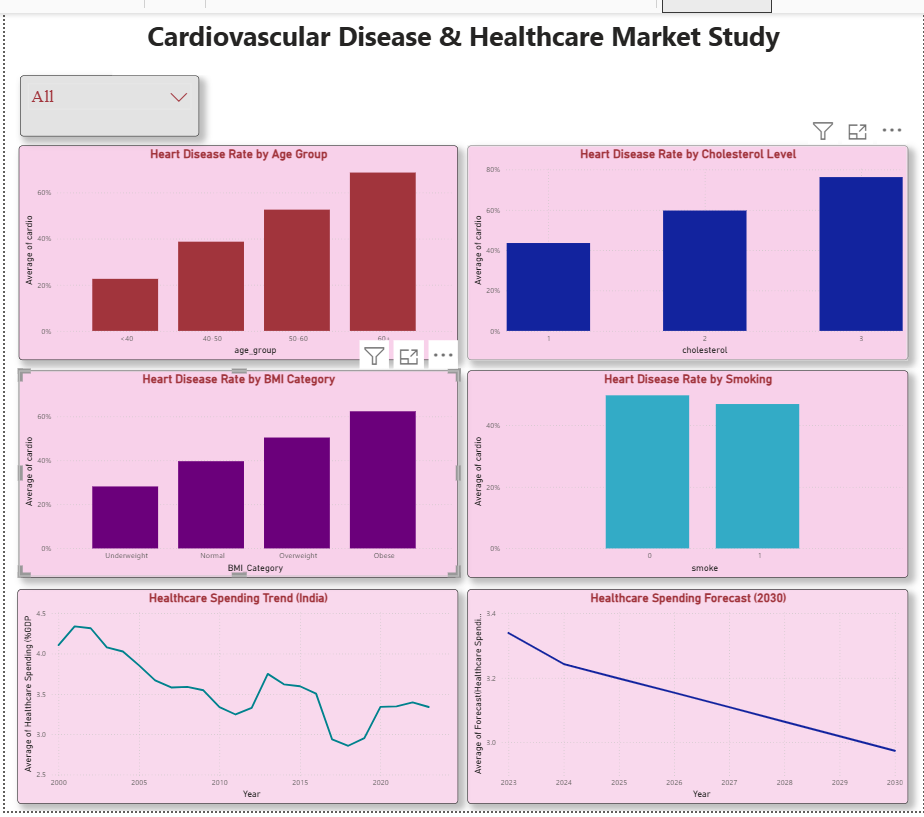

The dashboard page shown, as its layout file describes it:
{"tool":"powerbi","page":{"name":"Page 1","canvas":[1470,1280],"ordinal":0},"visuals":[{"type":"clusteredColumnChart","title":"Heart Disease Rate by Age Group","fields":{"Category":["cleaned_cardio__data.age_group"],"Y":["Avg(cleaned_cardio__data.cardio)"]},"box":[22.5,212.7,704,344],"z":0},{"type":"clusteredColumnChart","title":"Heart Disease Rate by Cholesterol Level","fields":{"Y":["Avg(cleaned_cardio__data.cardio)"],"Category":["cleaned_cardio__data.cholesterol"]},"box":[740.5,212.7,706,344],"z":1000},{"type":"clusteredColumnChart","title":"Heart Disease Rate by BMI Category","fields":{"Y":["Avg(cleaned_cardio__data.cardio)"],"Category":["cleaned_cardio__data.BMI_Category"]},"box":[22.5,572.7,704,332],"z":2000},{"type":"clusteredColumnChart","title":"Heart Disease Rate by Smoking","fields":{"Y":["Avg(cleaned_cardio__data.cardio)"],"Category":["cleaned_cardio__data.smoke"]},"box":[740.5,572.7,706,332],"z":3000},{"type":"slicer","fields":{"Values":["cleaned_cardio__data.gender","cleaned_cardio__data.age_group","cleaned_cardio__data.cholesterol"]},"box":[25,100,287.5,97.5],"z":4000},{"type":"lineChart","title":"Healthcare Spending Trend (India)","fields":{"Category":["trend_year_data.Year"],"Y":["Avg(trend_year_data.Healthcare Spending (%GDP)"]},"box":[20.5,924.7,706,344],"z":5000},{"type":"lineChart","title":"Healthcare Spending Forecast (2030)","fields":{"Category":["health_forcast__data.Year"],"Y":["Avg(health_forcast__data.Forecast(Healthcare Spending (%GDP))"]},"box":[740.5,924.7,706,344],"z":6000},{"type":"textbox","box":[172.5,2.5,1125,97.5],"z":7000}]}

Visuals, with their boxes in screenshot pixels (x1, y1, x2, y2), scaled from the page's 1470x1280 canvas onto the 924x817 screenshot:
"Heart Disease Rate by Age Group" clusteredColumnChart: <region>14, 136, 457, 355</region>
"Heart Disease Rate by Cholesterol Level" clusteredColumnChart: <region>465, 136, 909, 355</region>
"Heart Disease Rate by BMI Category" clusteredColumnChart: <region>14, 366, 457, 577</region>
"Heart Disease Rate by Smoking" clusteredColumnChart: <region>465, 366, 909, 577</region>
slicer - cleaned_cardio__data.gender x cleaned_cardio__data.age_group: <region>16, 64, 196, 126</region>
"Healthcare Spending Trend (India)" lineChart: <region>13, 590, 457, 810</region>
"Healthcare Spending Forecast (2030)" lineChart: <region>465, 590, 909, 810</region>
textbox: <region>108, 2, 816, 64</region>
